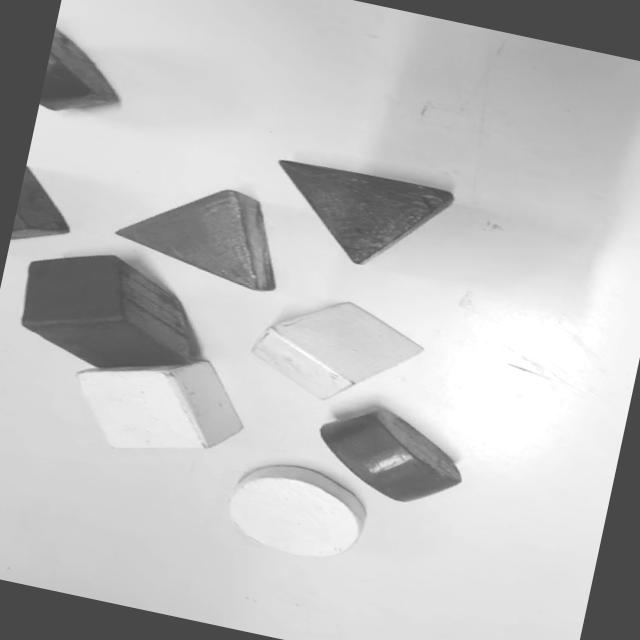bcube: (41, 25, 132, 123), (12, 163, 81, 251)
btriangle: (262, 156, 453, 279)
rcircle: (320, 410, 461, 502)
rcube: (12, 239, 216, 387)
rtriangle: (110, 166, 292, 292)
ycircle: (218, 454, 372, 567)
ycube: (64, 339, 244, 472)
ytriangle: (242, 284, 426, 416)
